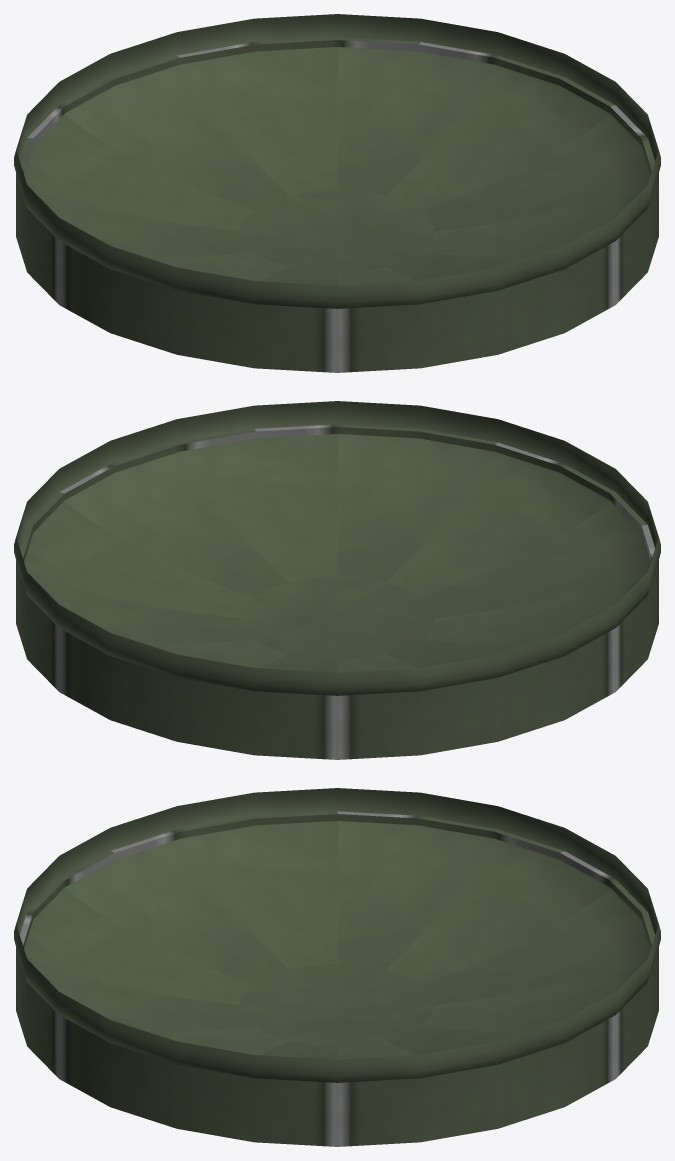
The model's file is heatshield_s2.fbx.
The picture shows the model from 3 angles, top to bottom: view 1: azimuth 30°, elevation 25°; view 2: azimuth 150°, elevation 25°; view 3: azimuth 270°, elevation 25°; orthographic projection.
Parts seen in each view (by area): view 1: mesh, fairing; view 2: mesh, fairing; view 3: mesh, fairing.
Part boxes in pixels (box(x1,y1,x2,y2)): mesh: box(14, 14, 660, 308); fairing: box(16, 37, 658, 372); mesh: box(14, 401, 660, 695); fairing: box(16, 424, 658, 759); mesh: box(14, 788, 660, 1082); fairing: box(16, 811, 658, 1146).
Size of the model in its own units: 2.52 by 0.375 by 2.52.
